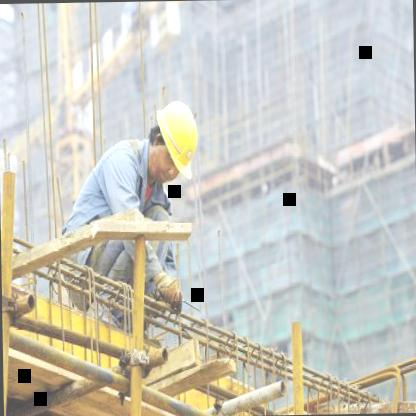helmet: (140, 100, 204, 191)
